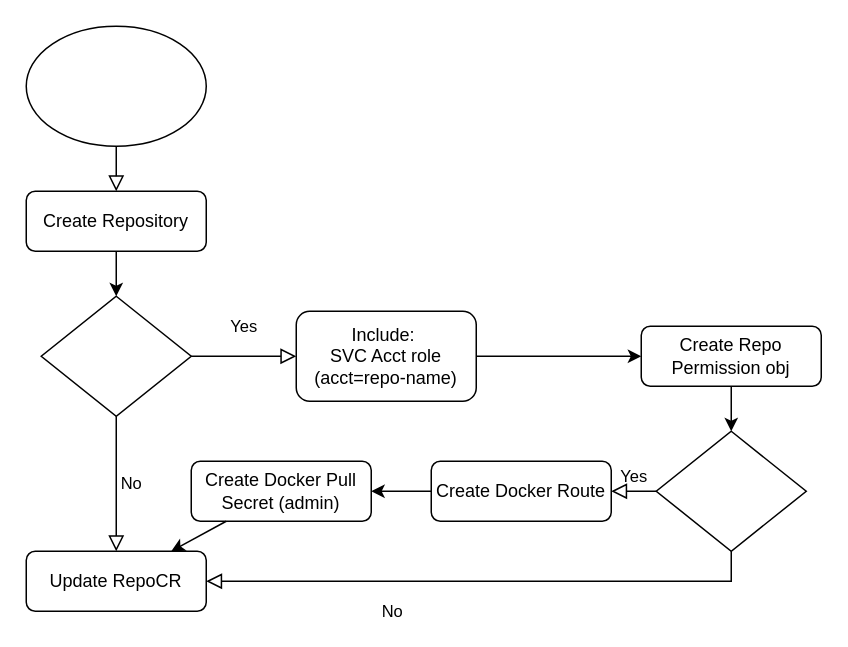
The diagram is 848 pixels wide and 647 high, and some of its shapes have lost their labels. The box of each missing label's shape, as (x1, y1, x2, y2) in pixels:
Locator is "local": (40, 295, 191, 416)
Repo-CR created: (25, 25, 206, 146)
Type is Docker: (655, 430, 806, 551)
